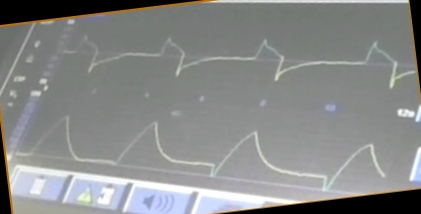Flow: (63, 28, 415, 89)
Leakage Volume: (18, 112, 385, 192)
